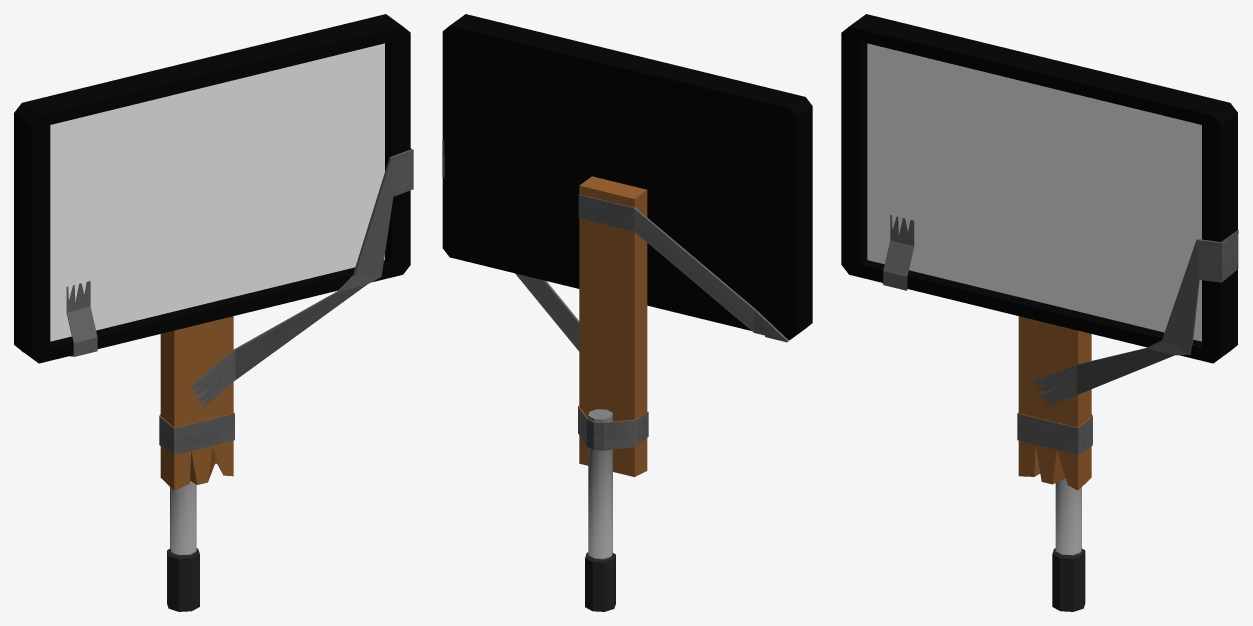
The model's file is BidSign.fbx.
The picture shows the model from 3 angles, left to right: view 1: azimuth 30°, elevation 25°; view 2: azimuth 150°, elevation 25°; view 3: azimuth 330°, elevation 25°; orthographic projection. The views are drawn at different scales.
Parts seen in each view (by area): view 1: Cube; view 2: Cube; view 3: Cube.
Boxes of the visible parts, <box> form: Cube: <box>14,14,413,611</box>; Cube: <box>442,14,812,611</box>; Cube: <box>841,14,1238,611</box>.
Size of the model in its own units: 1287 by 1810 by 284.
